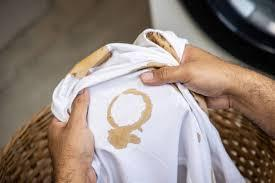coffee: (107, 123, 144, 149), (142, 93, 153, 124), (107, 94, 118, 124)
